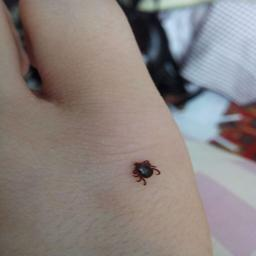Rhipicephalus sanguineus: (132, 159, 160, 186)
